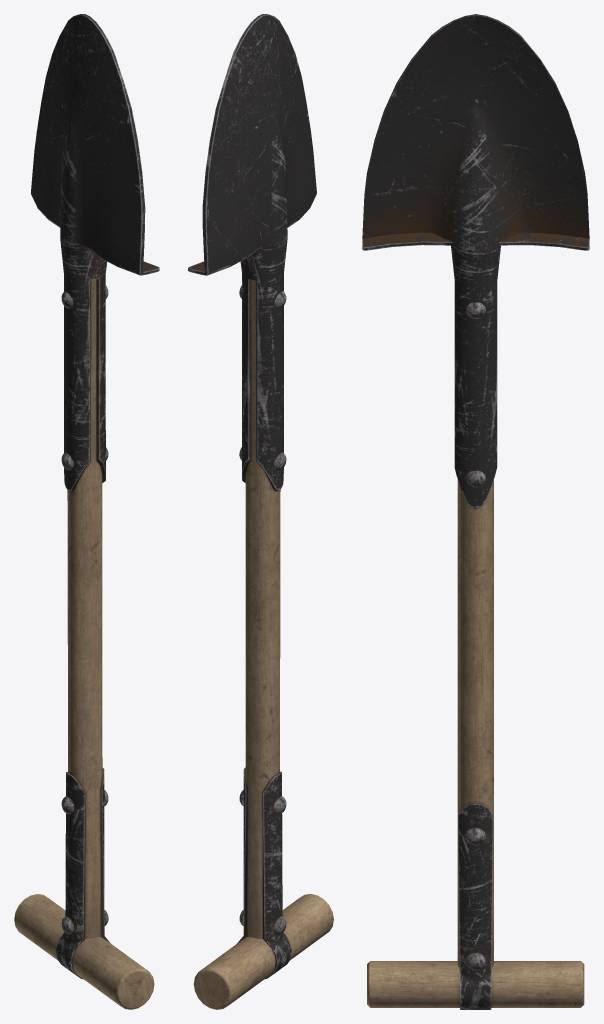
The model's file is shovel.glb.
3 views of the same model, side by side, from view 1: azimuth 30°, elevation 25°; view 2: azimuth 150°, elevation 25°; view 3: azimuth 270°, elevation 25° (orthographic). The views are drawn at different scales.
Parts seen in each view (by area): view 1: shovel; view 2: shovel; view 3: shovel.
Boxes of the visible parts, x1,y1,x2,y2 form: shovel: (14,14,159,1009); shovel: (188,14,333,1009); shovel: (362,14,589,1009).
Bounding box in the file's own units: 0.0439 × 0.9132 × 0.1891.
Materials: 1 (1 with a texture image).
